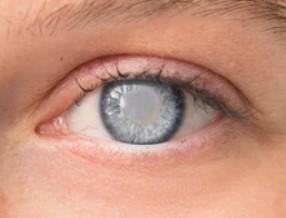eye: (99, 77, 186, 143)
